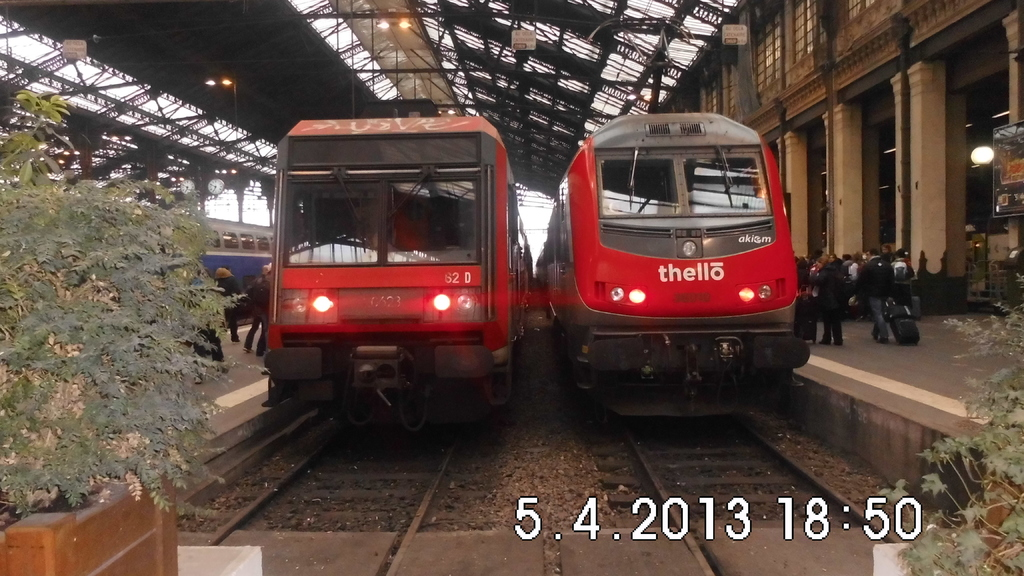train: (537, 17, 806, 422), (262, 102, 535, 435)
